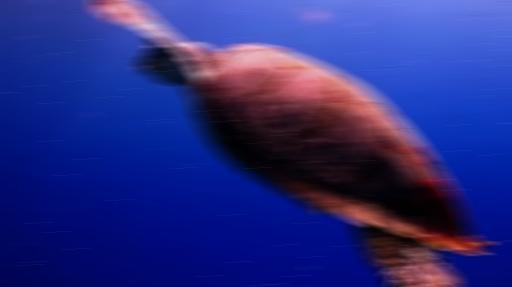Fish: (92, 0, 489, 286)
